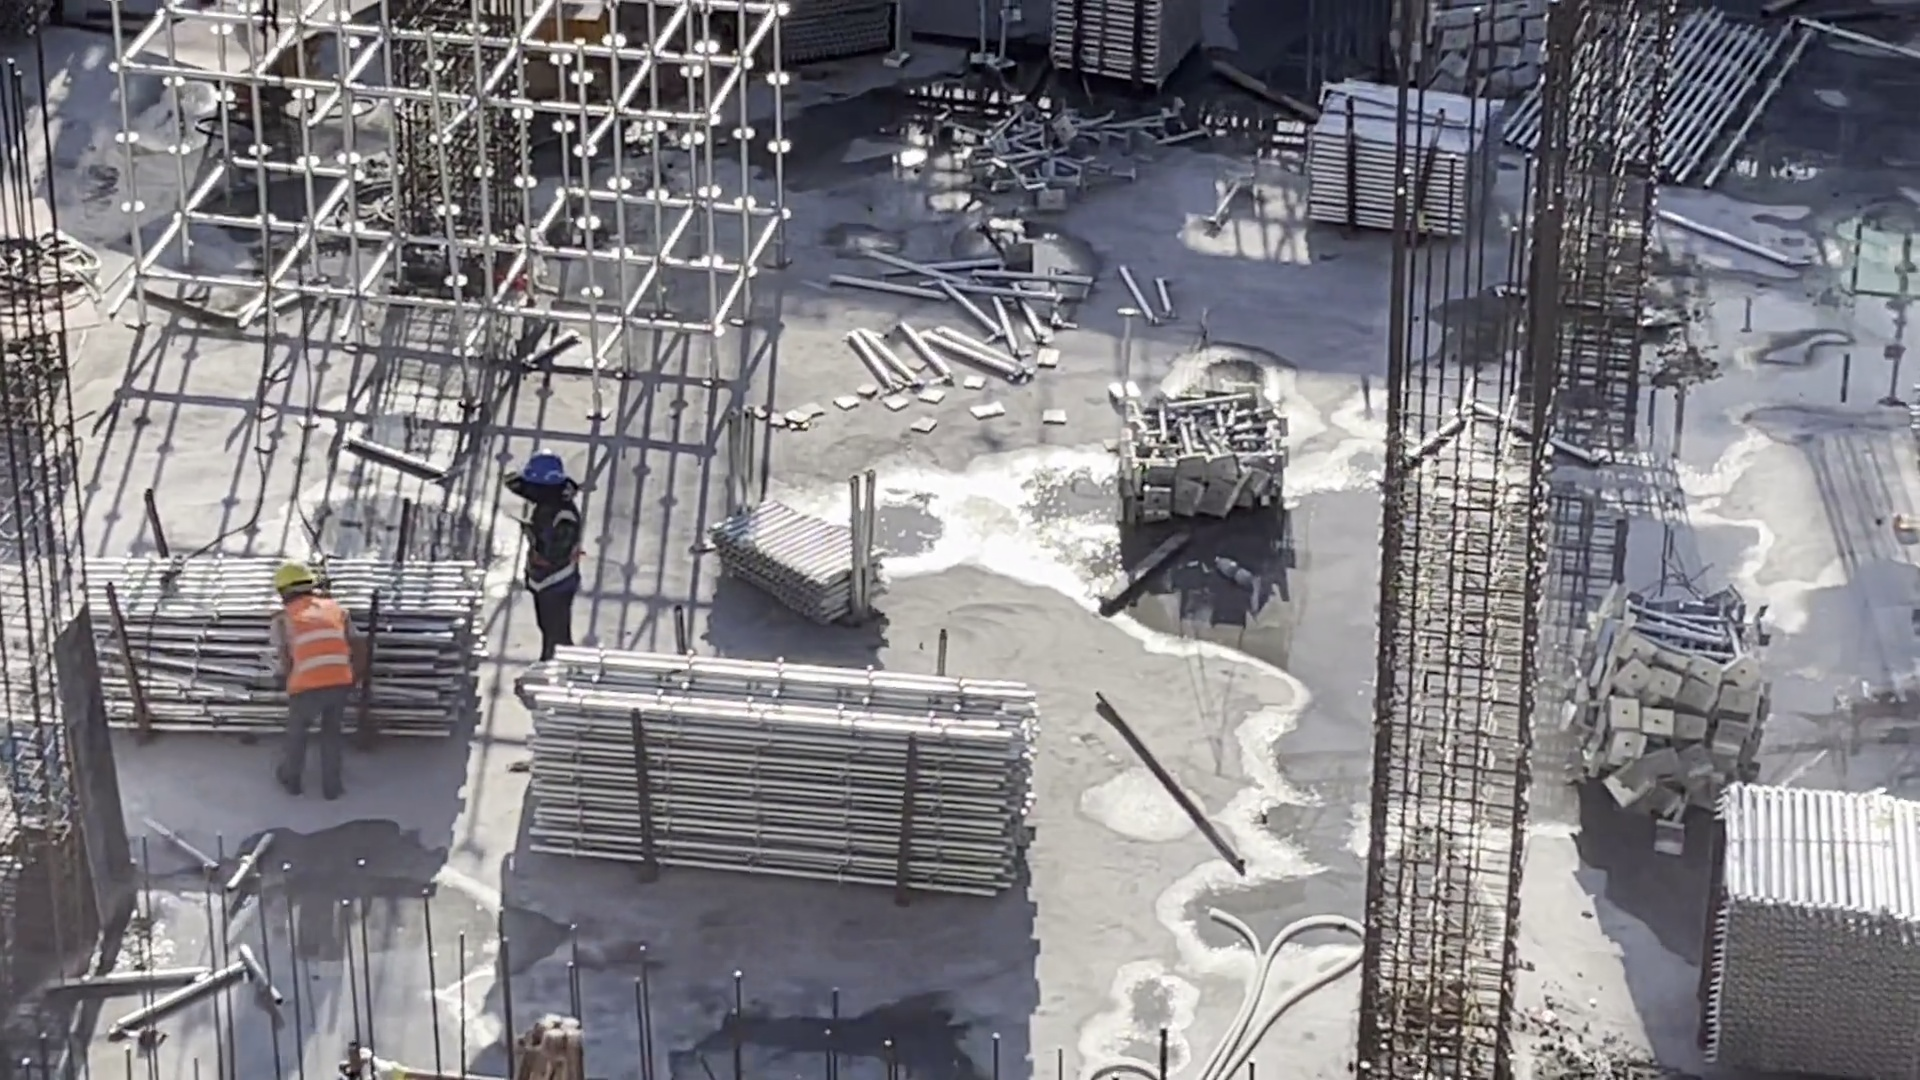cutter: (126, 1, 361, 105), (1, 174, 121, 346)
helmet: (523, 443, 562, 500), (271, 554, 326, 586)
person: (259, 552, 363, 800), (504, 443, 592, 700)
scaffold: (523, 640, 1000, 881), (39, 550, 477, 742), (1710, 779, 1920, 1075), (1569, 599, 1772, 819), (1304, 73, 1483, 236), (1128, 393, 1287, 514), (730, 490, 873, 621), (973, 95, 1120, 216), (1402, 1, 1554, 111), (1053, 1, 1195, 81)
vest: (274, 593, 358, 697), (517, 499, 581, 593)
